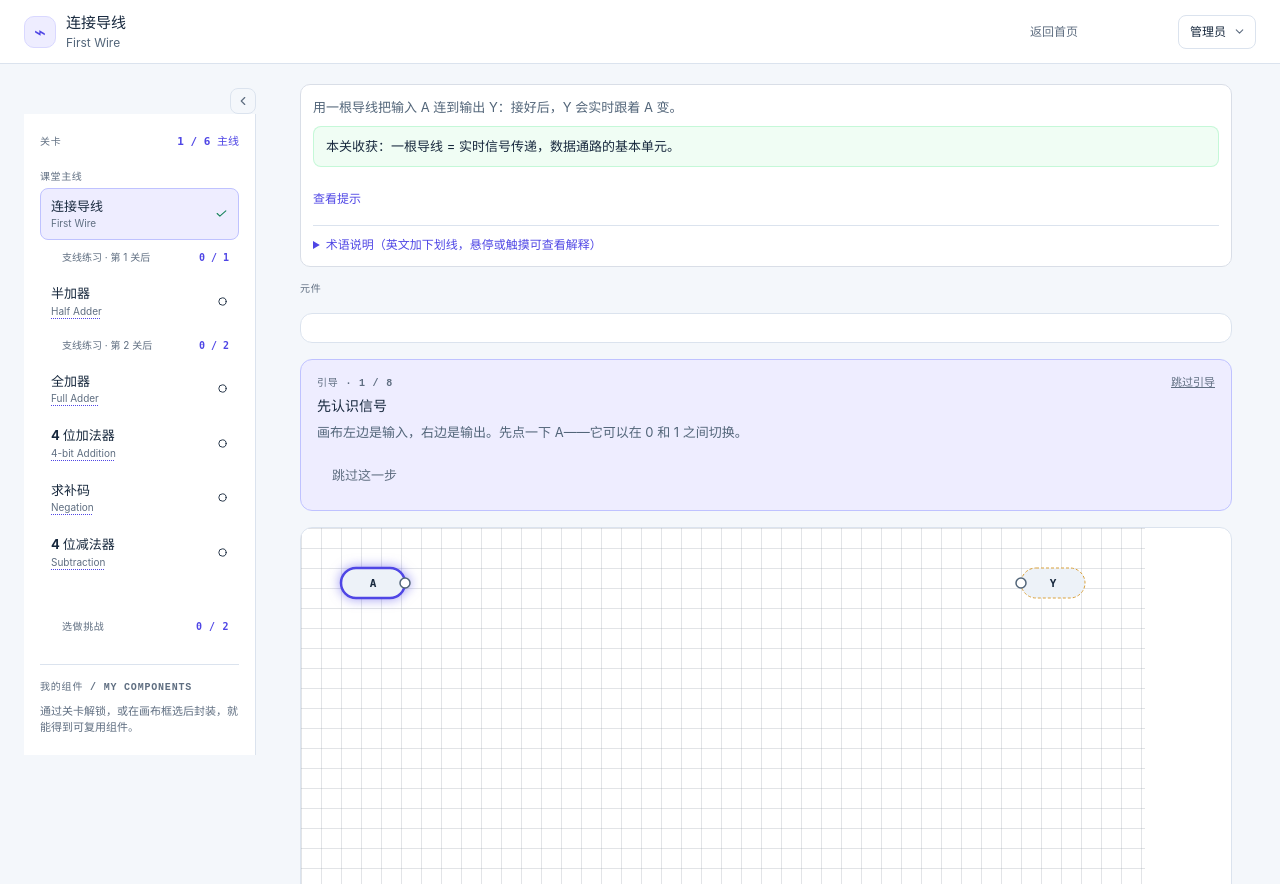
Test: CalculatorLabPage coach › keeps tutorial progress isolated between stages
expect the heading "先认识信号" is shown: met, box [317,397,387,414]
Click the button "跳过引导" at (1193, 383), box [1171,374,1215,391]
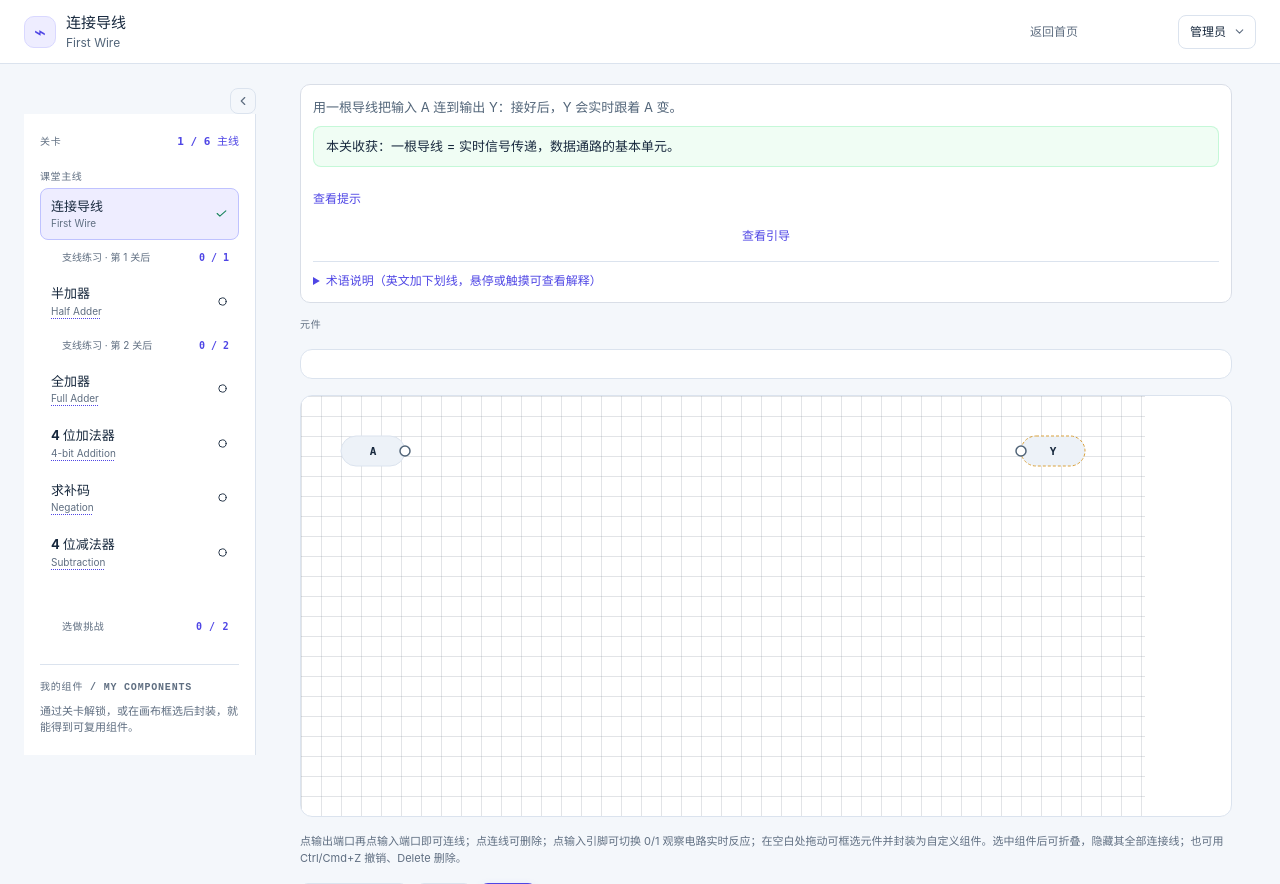
Click the button "半加器 Half Adder" at (140, 301), box [40,275,239,328]
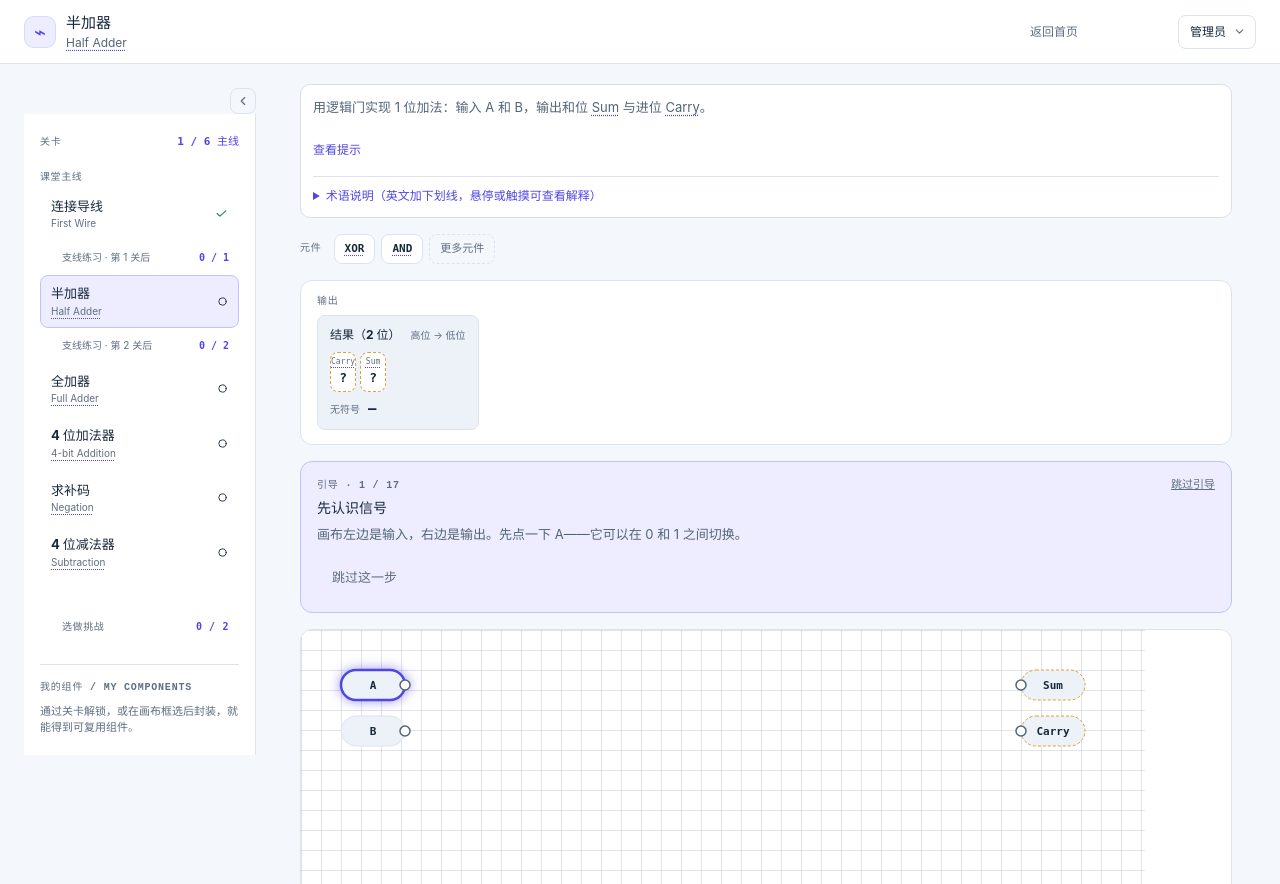
expect the heading "先认识信号" is shown: met, box [317,499,387,516]
